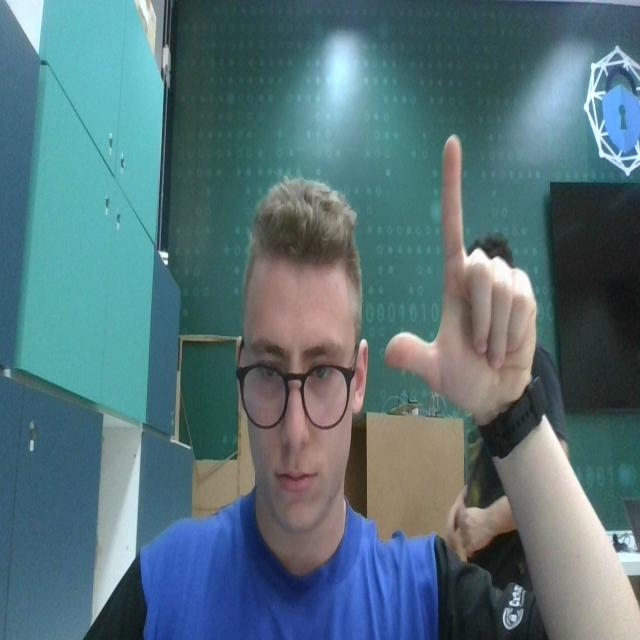L: (380, 127, 541, 406)
